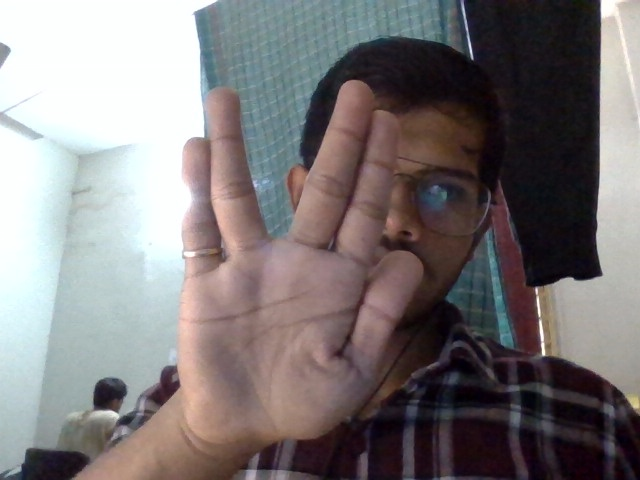LiveLong: (170, 73, 416, 441)
